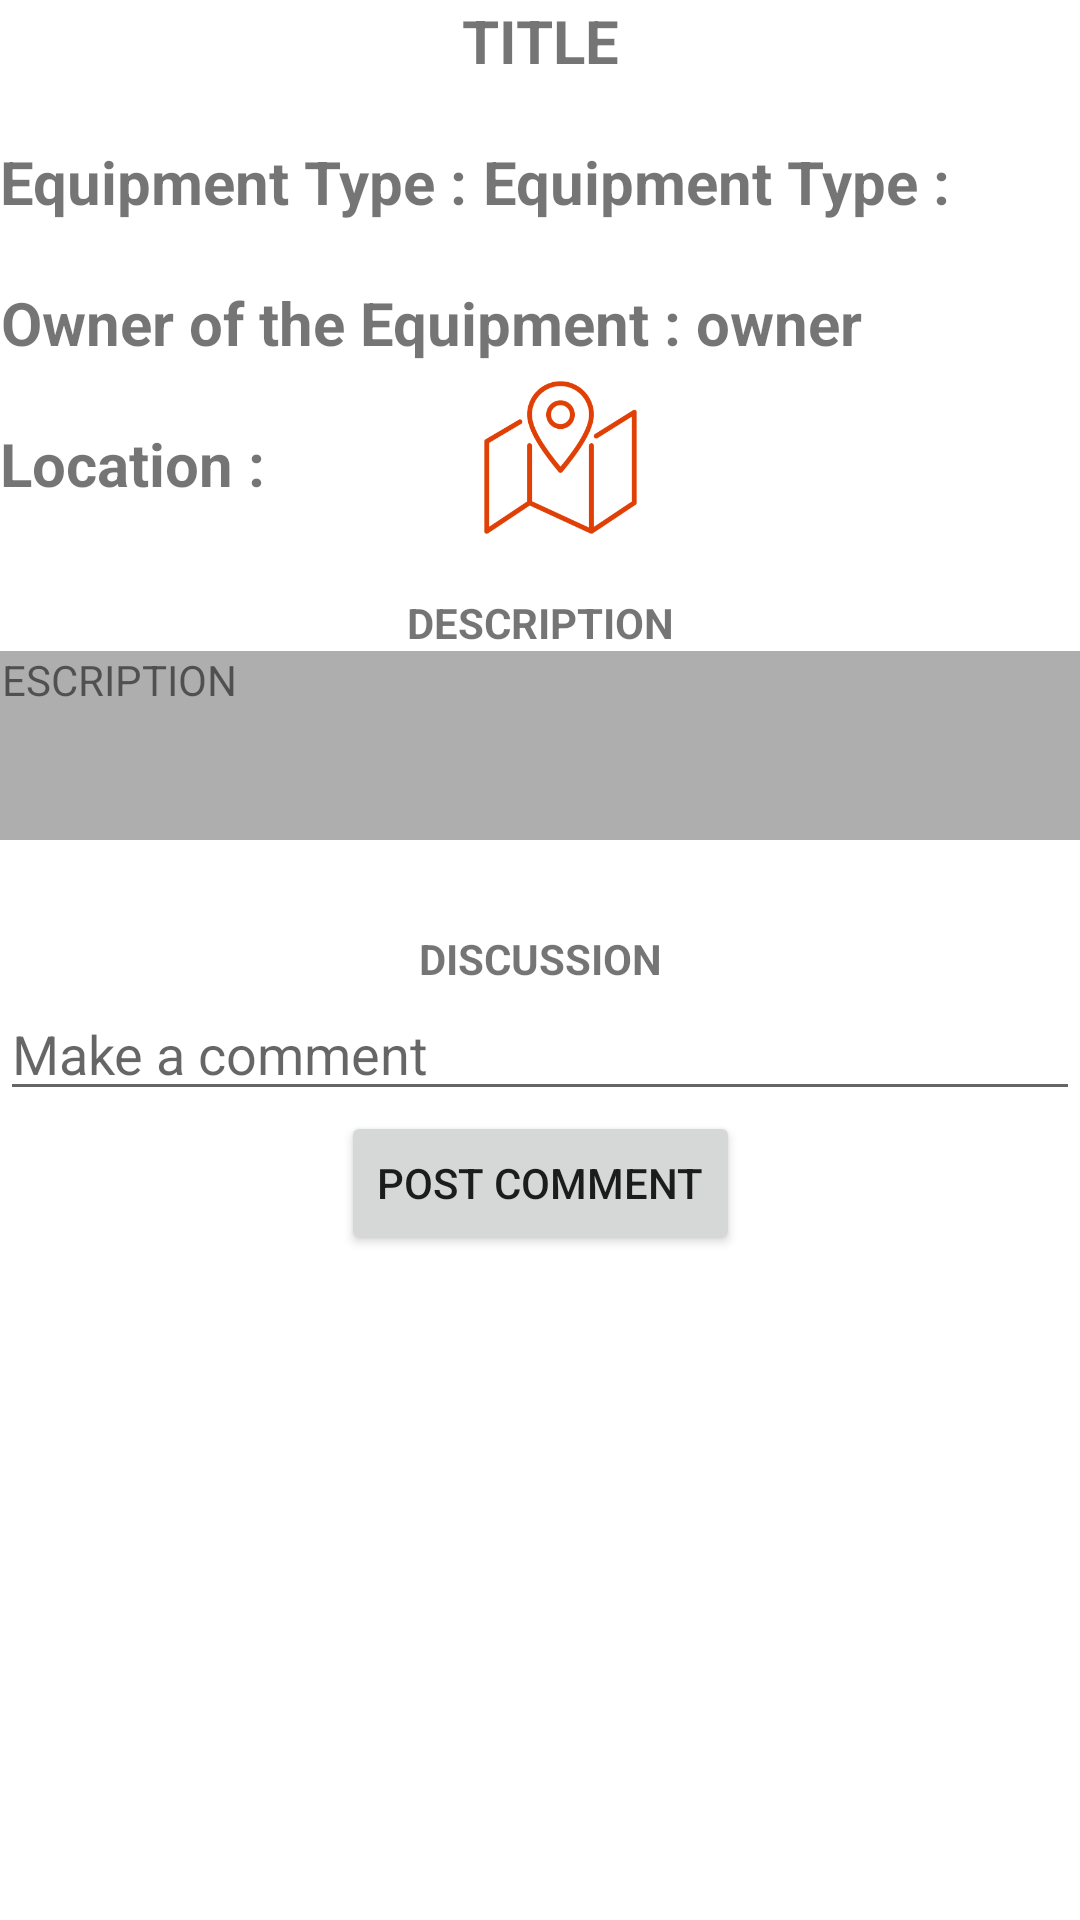

Named icons in this screenshot (1080px x 1920px) and their centers, [x,y]:
map: [560,457]
